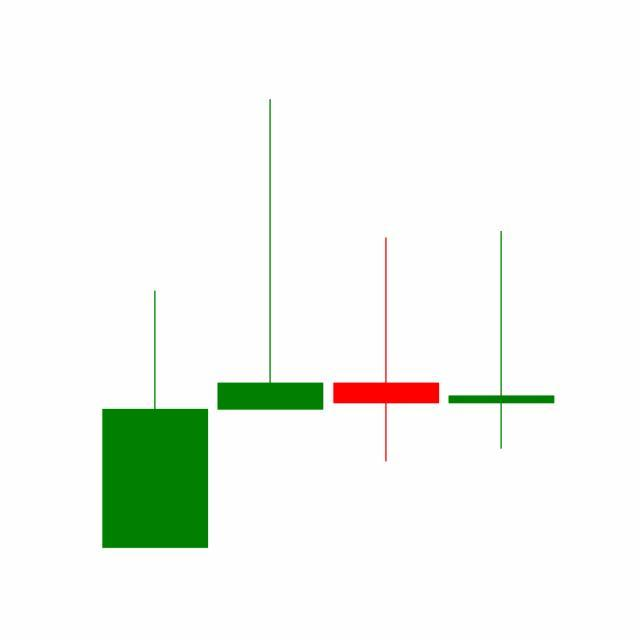Spinning Top: (329, 235, 445, 465)
